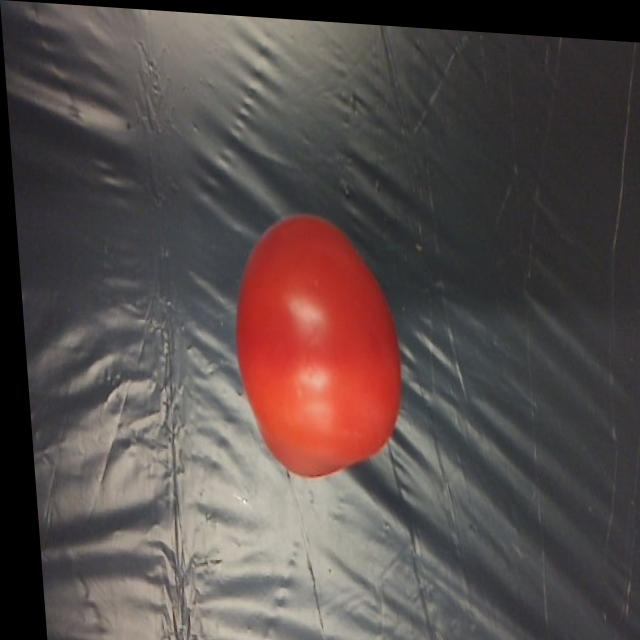kirmizi: (222, 184, 403, 501)
